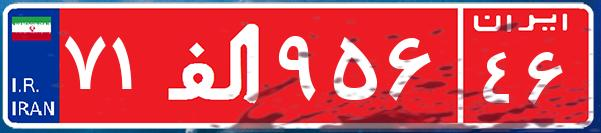1: (110, 28, 158, 105)
4: (475, 38, 525, 113)
5: (330, 28, 385, 110)
6: (385, 28, 445, 110), (525, 38, 570, 115)
7: (57, 26, 110, 107)
9: (273, 28, 330, 110)
الف: (158, 15, 273, 115)
